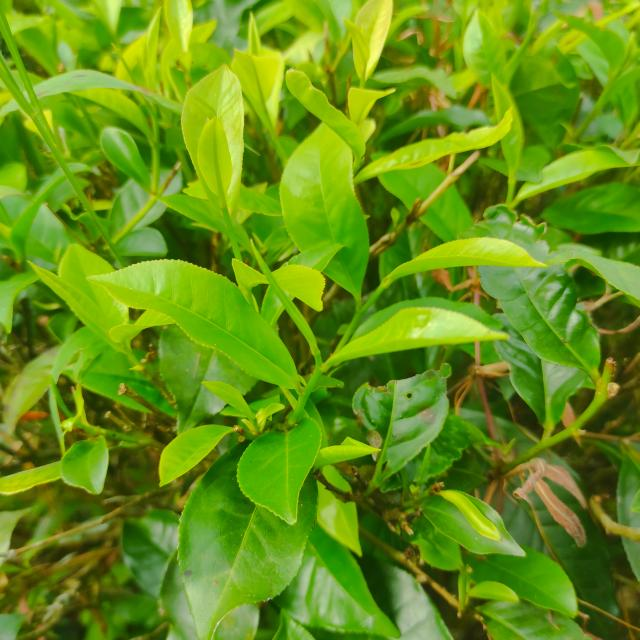unopened_leaf: (247, 232, 329, 372), (106, 36, 158, 128)
